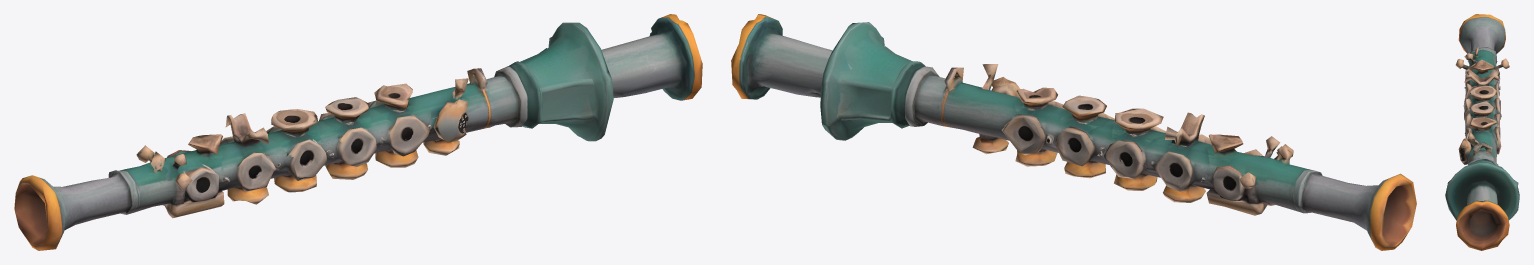
File: weapon_flute_tertiary_1500_raw.glb
The picture shows the model from 3 angles, left to right: view 1: azimuth 30°, elevation 25°; view 2: azimuth 150°, elevation 25°; view 3: azimuth 270°, elevation 25°; orthographic projection. The views are drawn at different scales.
Parts seen in each view (by area): view 1: tripo_node_220e21d8-35e7-4bcb-831e-3187e06502af; view 2: tripo_node_220e21d8-35e7-4bcb-831e-3187e06502af; view 3: tripo_node_220e21d8-35e7-4bcb-831e-3187e06502af.
Boxes of the visible parts, box(x1,y1,x2,y2) form: tripo_node_220e21d8-35e7-4bcb-831e-3187e06502af: box(14, 14, 702, 250); tripo_node_220e21d8-35e7-4bcb-831e-3187e06502af: box(731, 14, 1416, 250); tripo_node_220e21d8-35e7-4bcb-831e-3187e06502af: box(1445, 14, 1519, 250).
Bounding box in the file's own units: 0.9802 × 0.1606 × 0.1592.
1 material, 1 textured.
